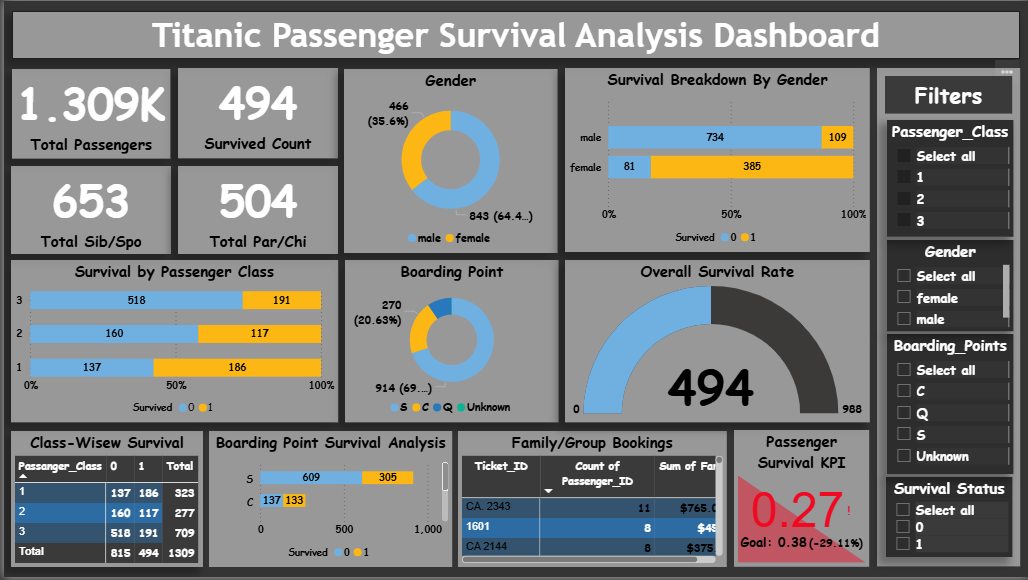

The dashboard page shown, as its layout file describes it:
{"tool":"powerbi","page":{"name":"Page 1","canvas":[1280,720],"ordinal":0},"visuals":[{"type":"textbox","box":[10,12.9,1260,60],"z":0},{"type":"cardVisual","title":"Survived Count","fields":{"Data":["Sum(CLEANED_TITANIC.Survived)"]},"box":[217.1,84.3,200,112.9],"z":1000},{"type":"cardVisual","title":"Survived Count","fields":{"Data":["CountNonNull(CLEANED_TITANIC.Passanger_Class)"]},"box":[10,85,198.3,111.7],"z":2000},{"type":"donutChart","title":"Gender ","fields":{"Category":["CLEANED_TITANIC.Sex"],"Y":["CountNonNull(CLEANED_TITANIC.Passenger_ID)"]},"box":[425,85,266.7,230],"z":3000},{"type":"donutChart","title":"Boarding Point","fields":{"Category":["CLEANED_TITANIC.Boarding_Point"],"Y":["CountNonNull(CLEANED_TITANIC.Passenger_ID)"]},"box":[425.7,324.3,267.1,202.9],"z":4000},{"type":"cardVisual","title":"Survived Count","fields":{"Data":["Sum(CLEANED_TITANIC.Siblings/Spouses)"]},"box":[8.6,205.7,200,110],"z":5000},{"type":"cardVisual","title":"Survived Count","fields":{"Data":["Sum(CLEANED_TITANIC.Parents/Childrens)"]},"box":[217.1,205.7,200,110],"z":6000},{"type":"hundredPercentStackedBarChart","title":"Survival by Passenger Class","fields":{"Category":["CLEANED_TITANIC.Passanger_Class"],"Y":["CountNonNull(CLEANED_TITANIC.Passenger_ID)"],"Series":["CLEANED_TITANIC.Survived"]},"box":[8.6,324.3,408.6,202.9],"z":7000},{"type":"shape","box":[1091.4,84.3,178.6,622.9],"z":8000},{"type":"textbox","box":[1101.4,94.3,158.6,47.1],"z":9000},{"type":"hundredPercentStackedBarChart","title":"Survival Breakdown By Gender","fields":{"Category":["CLEANED_TITANIC.Sex"],"Y":["CountNonNull(CLEANED_TITANIC.Passenger_ID)"],"Series":["CLEANED_TITANIC.Survived"]},"box":[701.4,84.3,381.4,230],"z":10000},{"type":"pivotTable","title":"Class-Wisew Survival","fields":{"Rows":["CLEANED_TITANIC.Passanger_Class"],"Columns":["CLEANED_TITANIC.Survived"],"Values":["CountNonNull(CLEANED_TITANIC.Passenger_ID)"]},"box":[8.6,537.1,240,170],"z":11000},{"type":"barChart","title":"Boarding Point Survival Analysis","fields":{"Y":["CountNonNull(CLEANED_TITANIC.Passenger_ID)"],"Series":["CLEANED_TITANIC.Survived"],"Category":["CLEANED_TITANIC.Boarding_Point"]},"box":[255.7,537.1,304.3,170],"z":12000},{"type":"pivotTable","title":"Family/Group Bookings","fields":{"Values":["CountNonNull(CLEANED_TITANIC.Passenger_ID)","Sum(CLEANED_TITANIC.  Fare  )"],"Rows":["CLEANED_TITANIC.Ticket_ID"]},"box":[567.1,537.1,335.7,170],"z":13000},{"type":"gauge","title":"Overall Survival Rate","fields":{"Y":["Sum(CLEANED_TITANIC.Survived)"],"TargetValue":["CountNonNull(CLEANED_TITANIC.Passenger_ID)"]},"box":[701,324,381,203],"z":14000},{"type":"slicer","title":"Gender","fields":{"Values":["CLEANED_TITANIC.Sex"]},"box":[1103.8,298.7,158.3,114.2],"z":15000},{"type":"slicer","title":"Boarding_Points","fields":{"Values":["CLEANED_TITANIC.Boarding_Point"]},"box":[1103.8,415.7,158.3,174.8],"z":16000},{"type":"slicer","title":"Survival Status","fields":{"Values":["CLEANED_TITANIC.Survived"]},"box":[1102.5,594.6,158.3,100.5],"z":17000},{"type":"slicer","title":"Passenger_Class","fields":{"Values":["CLEANED_TITANIC.Passanger_Class"]},"box":[1103.8,148.6,158.3,145.9],"z":18000},{"type":"kpi","title":"Passenger Survival KPI","fields":{"Indicator":["Avg(CLEANED_TITANIC.Survived)"],"TrendLine":["CLEANED_TITANIC.Passanger_Class"],"Goal":["Sum(Target.Column1)"]},"box":[912.5,536.8,169.3,170.7],"z":19000}]}

Visuals, with their boxes in screenshot pixels (x1, y1, x2, y2), scaled from the page's 1280x720 canvas onto the 1028x580 screenshot:
textbox: <bbox>8, 10, 1020, 59</bbox>
"Survived Count" cardVisual: <bbox>174, 68, 335, 159</bbox>
"Survived Count" cardVisual: <bbox>8, 68, 167, 158</bbox>
"Gender " donutChart: <bbox>341, 68, 556, 254</bbox>
"Boarding Point" donutChart: <bbox>342, 261, 556, 425</bbox>
"Survived Count" cardVisual: <bbox>7, 166, 168, 254</bbox>
"Survived Count" cardVisual: <bbox>174, 166, 335, 254</bbox>
"Survival by Passenger Class" hundredPercentStackedBarChart: <bbox>7, 261, 335, 425</bbox>
shape: <bbox>877, 68, 1020, 570</bbox>
textbox: <bbox>885, 76, 1012, 114</bbox>
"Survival Breakdown By Gender" hundredPercentStackedBarChart: <bbox>563, 68, 870, 253</bbox>
"Class-Wisew Survival" pivotTable: <bbox>7, 433, 200, 570</bbox>
"Boarding Point Survival Analysis" barChart: <bbox>205, 433, 450, 570</bbox>
"Family/Group Bookings" pivotTable: <bbox>455, 433, 725, 570</bbox>
"Overall Survival Rate" gauge: <bbox>563, 261, 869, 425</bbox>
"Gender" slicer: <bbox>886, 241, 1014, 333</bbox>
"Boarding_Points" slicer: <bbox>886, 335, 1014, 476</bbox>
"Survival Status" slicer: <bbox>885, 479, 1013, 560</bbox>
"Passenger_Class" slicer: <bbox>886, 120, 1014, 237</bbox>
"Passenger Survival KPI" kpi: <bbox>733, 432, 869, 570</bbox>
